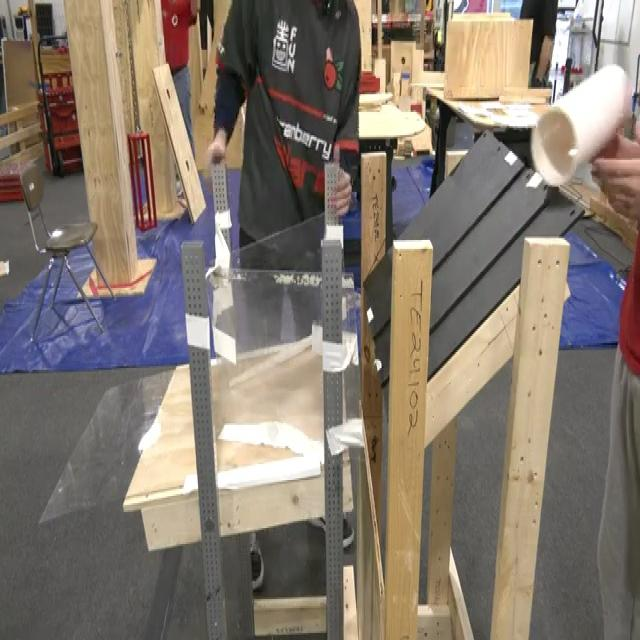Coral: (529, 60, 632, 186)
